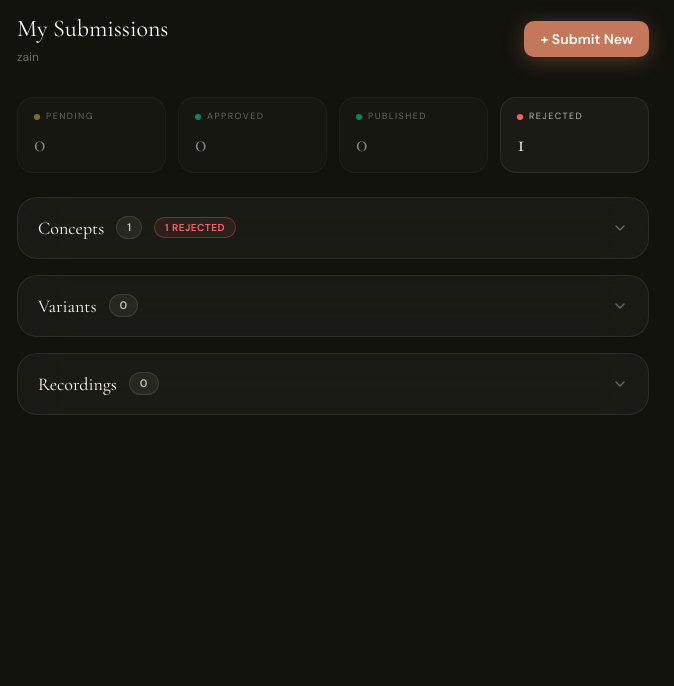
it: MySubmissions page — sections › shows the moderator note on a rejected concept
Click the button "Concepts 1 1 rejected".
click(71, 228)  # box [18,198,648,258]
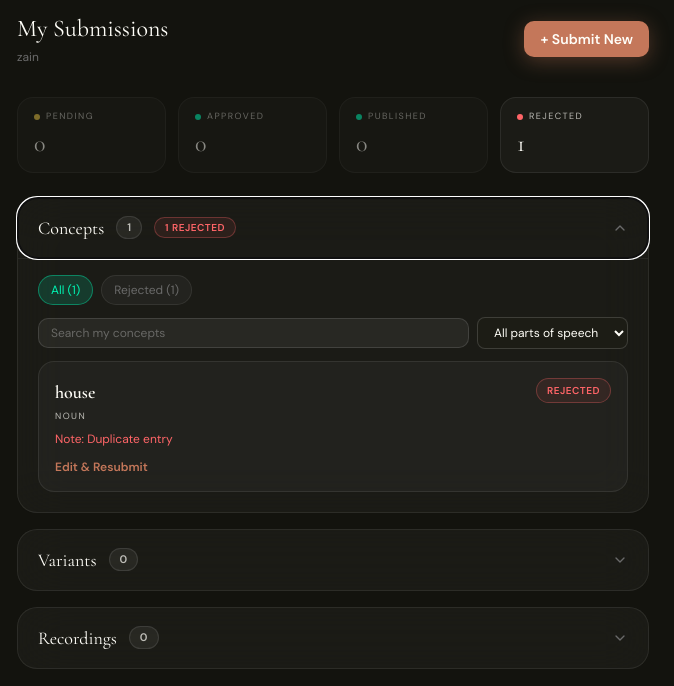
Expected: the text "Note: Duplicate entry" is shown, [55,431,173,447]
